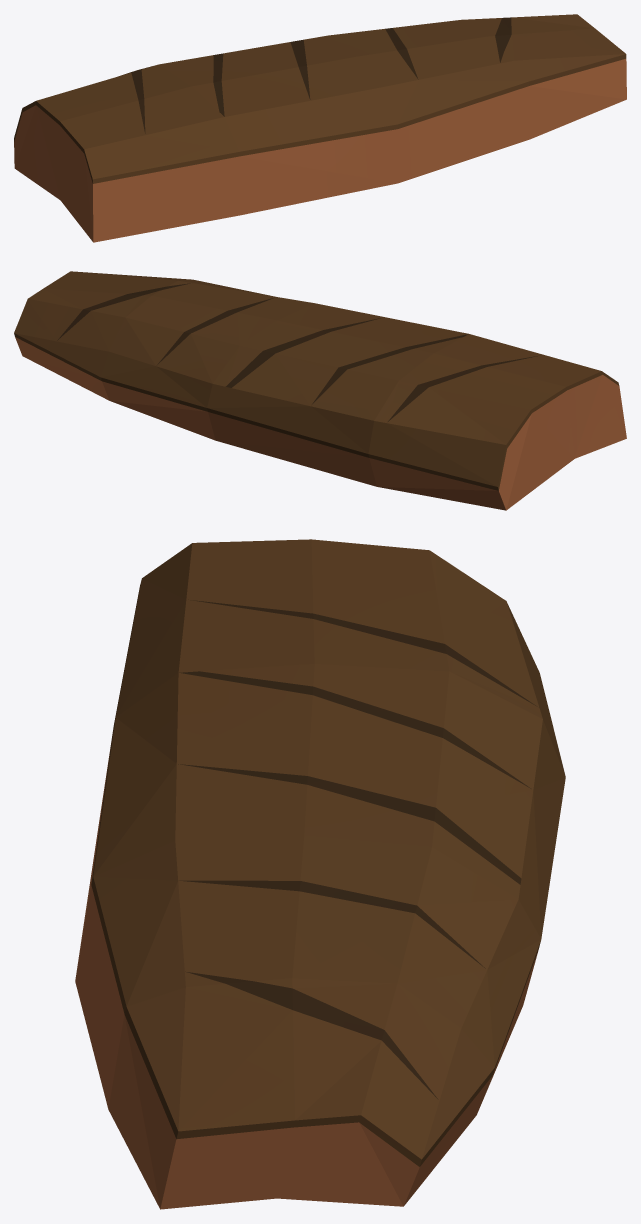
The model's file is FishFileCoocked.fbx.
3 views of the same model, one above another, from view 1: azimuth 30°, elevation 25°; view 2: azimuth 150°, elevation 25°; view 3: azimuth 270°, elevation 25° (orthographic). The views are drawn at different scales.
Parts seen in each view (by area): view 1: Fish; view 2: Fish; view 3: Fish.
Part boxes in pixels (<box>): Fish: <box>14,14,626,242</box>; Fish: <box>14,271,626,510</box>; Fish: <box>75,539,565,1209</box>.
Size of the model in its own units: 11.33 by 1.81 by 4.43.
Materials: 1 (1 with a texture image).
